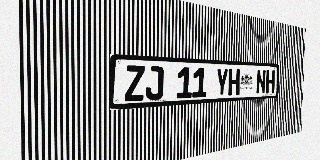1: (176, 67, 192, 99), (192, 67, 207, 98)
H: (228, 69, 240, 96), (265, 70, 275, 94)
J: (145, 66, 164, 100)
N: (256, 70, 266, 94)
Y: (216, 68, 228, 96)
Z: (125, 65, 145, 102)
